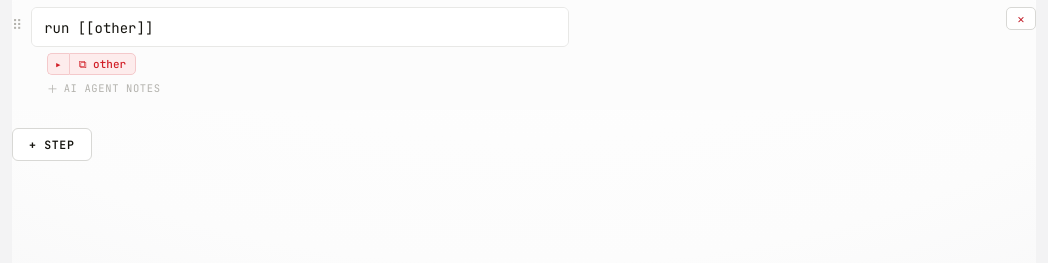
Test case: StepList › expands a referenced playbook inline without navigating
The image size is (1048, 263).
Check: the text "inner step one" is not shown
Click the button titled "Expand inline" at (58, 64), box [47,53,69,75]
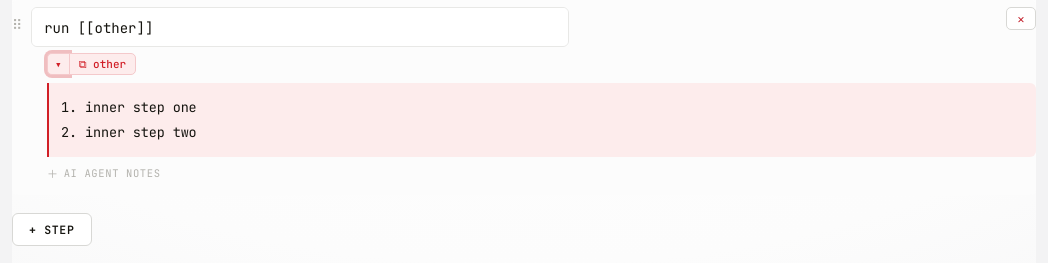
Check: the text "inner step one" is shown, box [85,98,197,116]
Check: the text "inner step two" is shown, box [85,123,197,141]
Note: collapses again
Click the button titled "Collapse" at (58, 64), box [47,53,69,75]
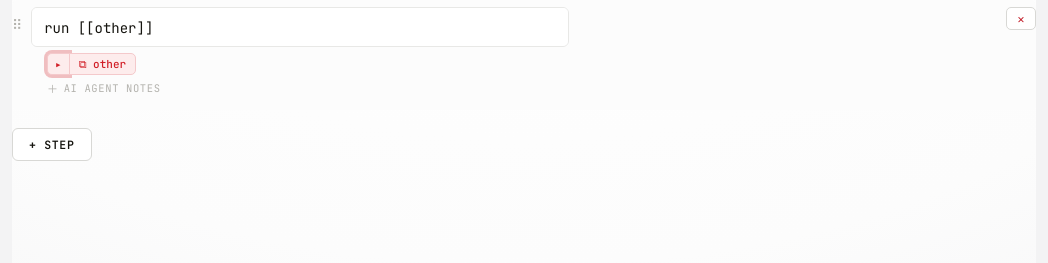
Check: the text "inner step one" is gone
